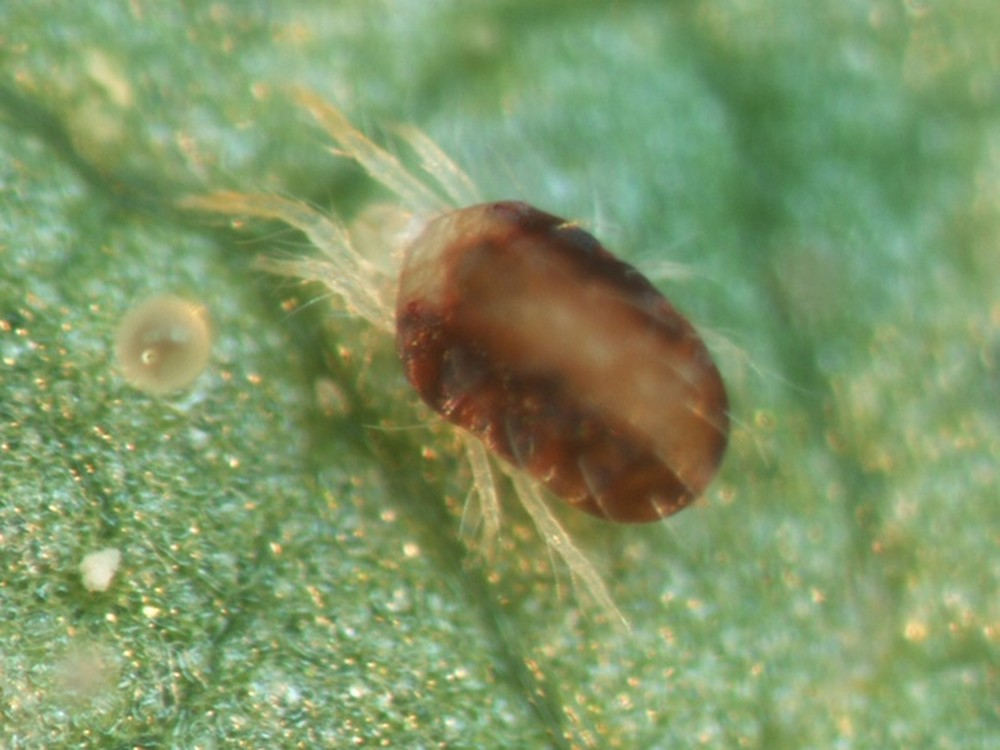Aracnido Rojo: (189, 74, 800, 659)
